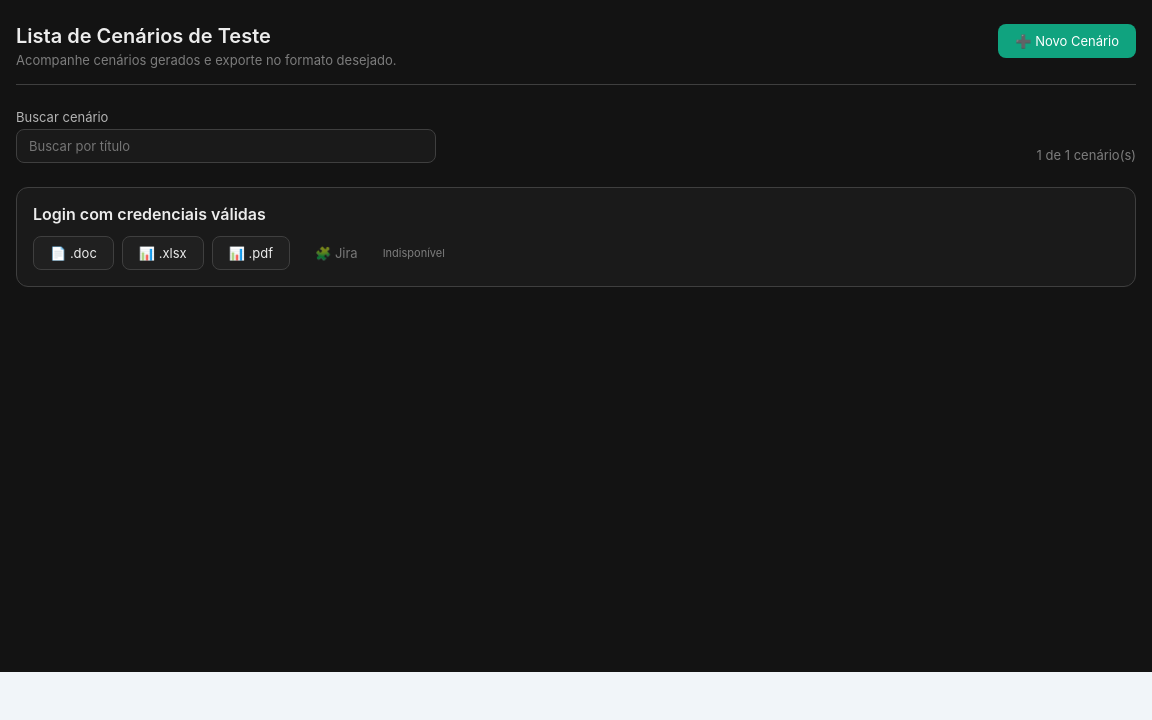
Test: CenarioListComponent (caracterização — Fase 14.4) › expandir/recolher detalhes — acessibilidade (Fase 14.4/Etapa 2) › FASE15-BUG-005B: cenário EXPLORATORY continua mostrando Status: REVIEW_REQUIRED na tela, com classe visual de alerta
The width and height of the screenshot is (1152, 720).
Click the button with class "cenario-card__toggle".
click(149, 214)  # box x1=33 y1=204 x2=1119 y2=224
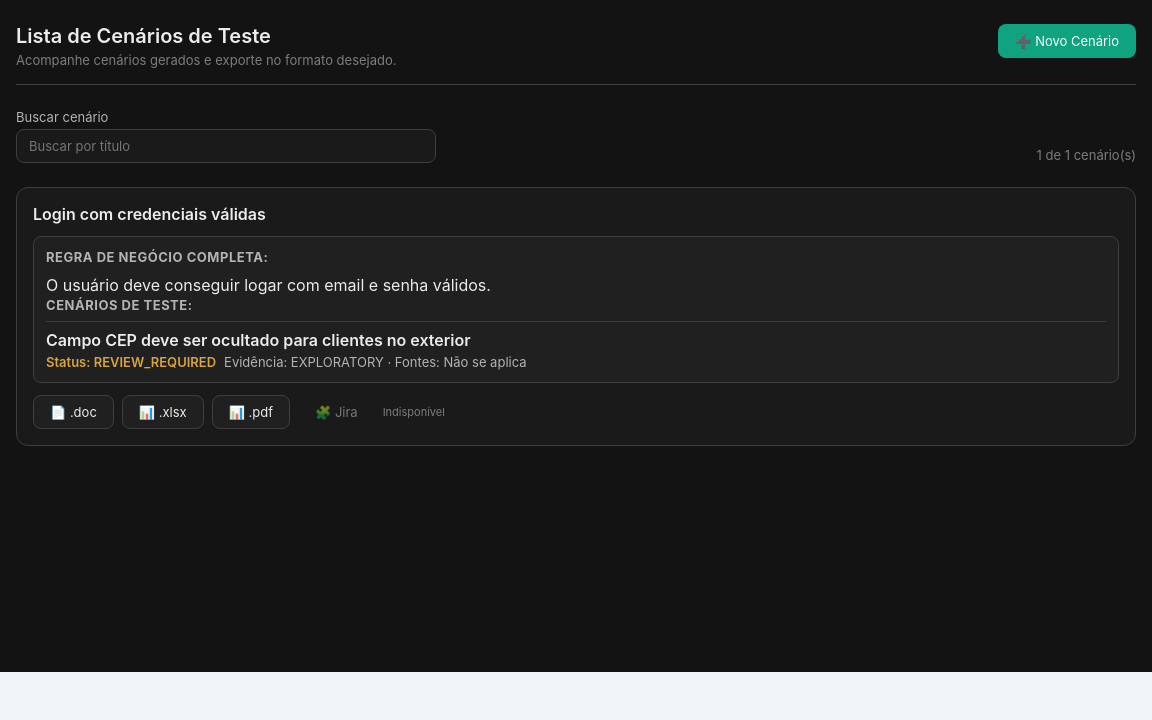
Now the element with class "cenario-card__details" shows "Status: REVIEW_REQUIRED", box x1=46 y1=354 x2=216 y2=370
Now the element with class "cenario-card__details" shows "Evidência: EXPLORATORY", box x1=224 y1=354 x2=388 y2=370
